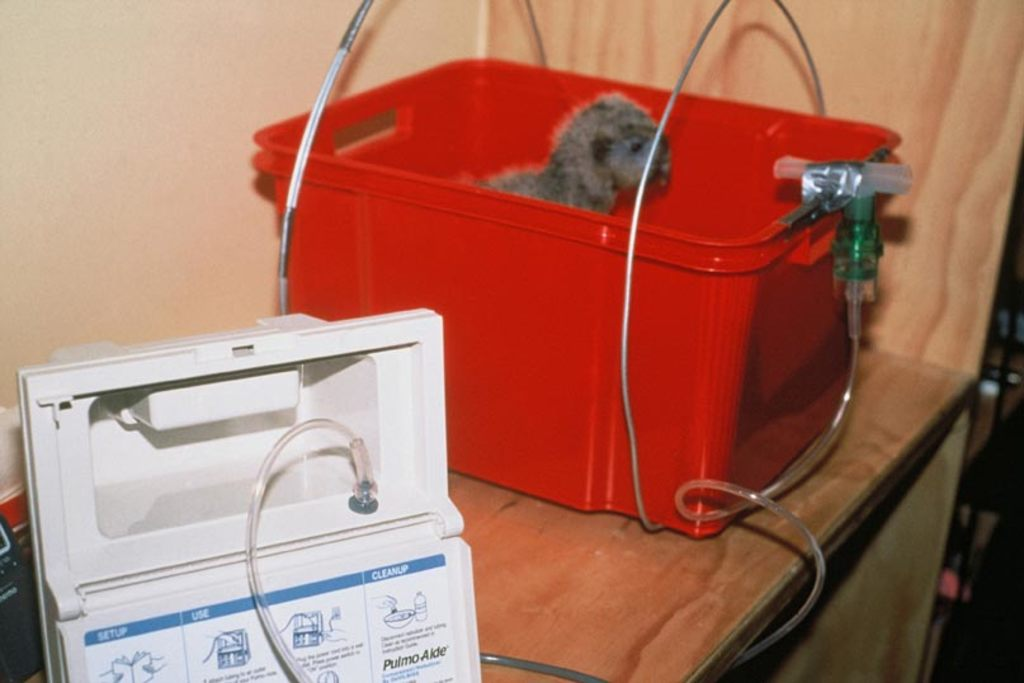Animal: (473, 89, 673, 216)
